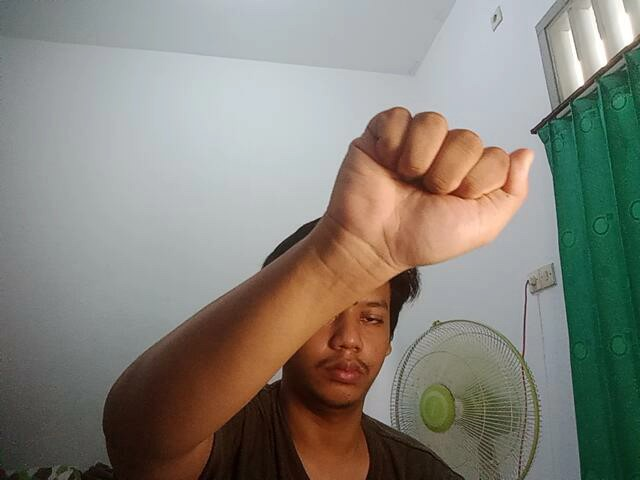A: (330, 95, 542, 275)
